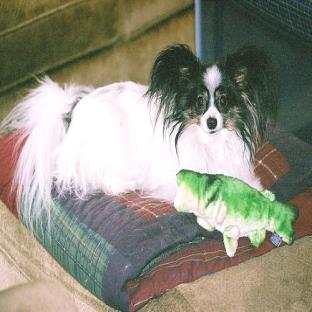Animal: (0, 44, 277, 225)
